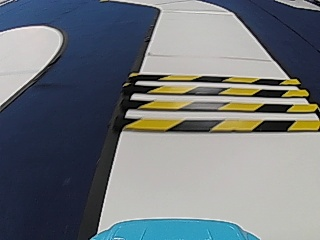bump: (137, 72, 296, 137)
